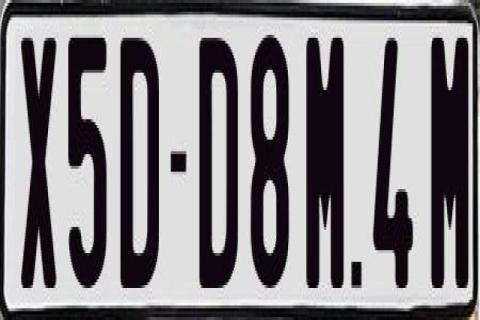0: (373, 35, 417, 288), (248, 35, 288, 299), (66, 29, 106, 285)
D: (119, 32, 159, 294), (196, 32, 236, 291)
M: (306, 38, 344, 288), (431, 32, 463, 294)
X: (18, 32, 55, 282)
